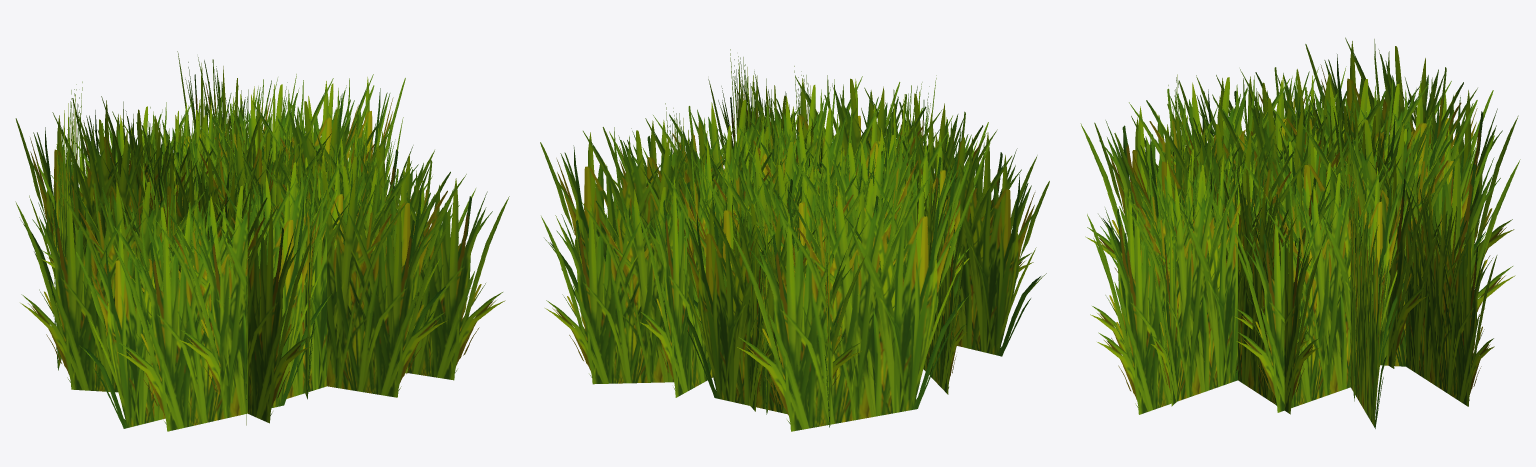
File: Grass2.fbx
3 views of the same model, side by side, from view 1: azimuth 30°, elevation 25°; view 2: azimuth 150°, elevation 25°; view 3: azimuth 270°, elevation 25° (orthographic).
Parts seen in each view (by area): view 1: GrassModel2.003; view 2: GrassModel2.003; view 3: GrassModel2.003.
Part boxes in pixels (x1,y1,x2,y2): GrassModel2.003: (15, 51, 509, 431); GrassModel2.003: (540, 49, 1049, 431); GrassModel2.003: (1080, 37, 1520, 428).
Size of the model in its own units: 356 by 198 by 321.
